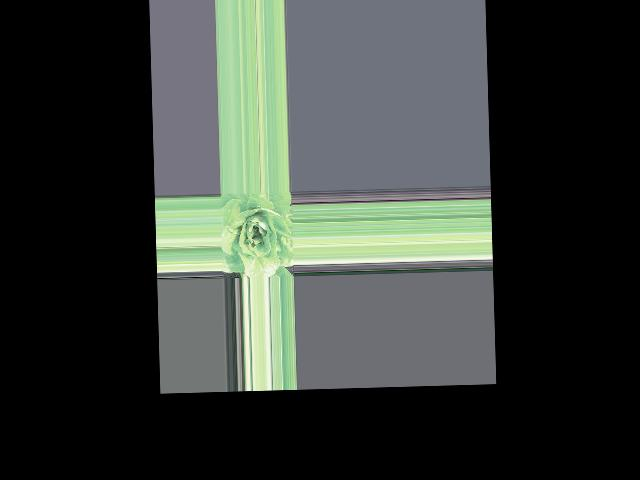lettuce: (222, 192, 294, 274)
